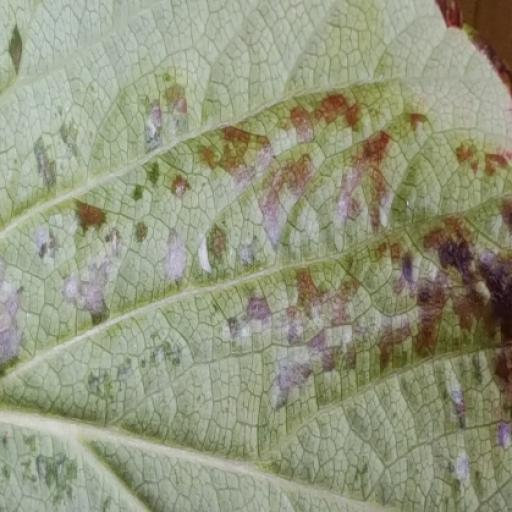Angular Leafspot: (0, 1, 511, 511)
